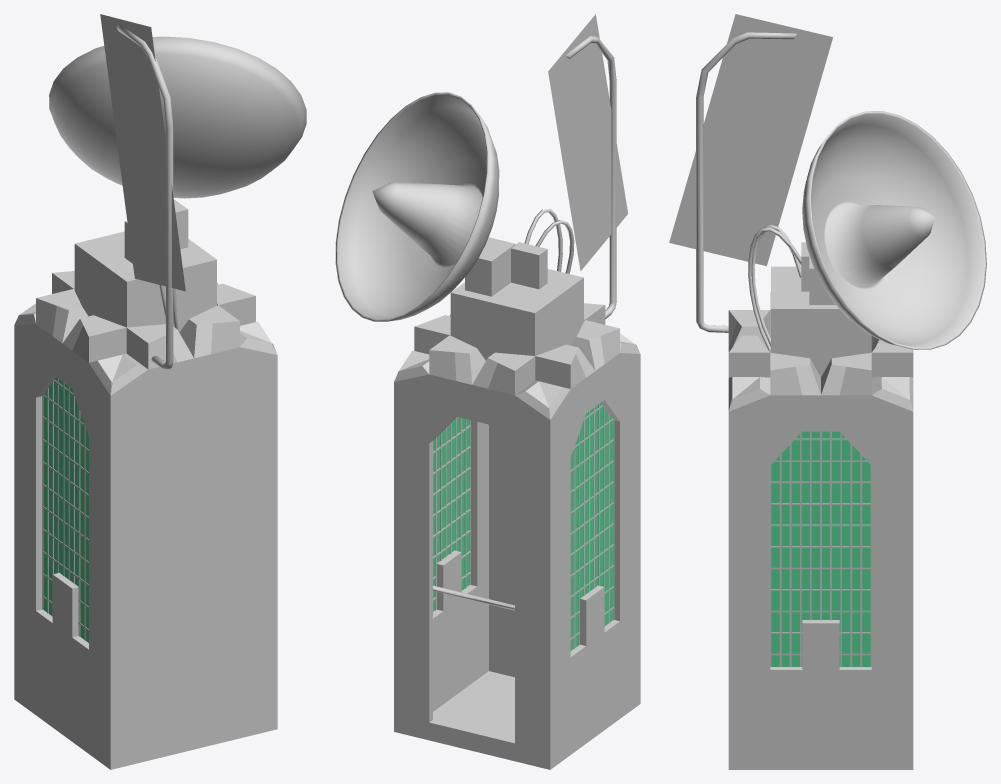
File: test_booth 1.fbx
3 views of the same model, side by side, from view 1: azimuth 30°, elevation 25°; view 2: azimuth 150°, elevation 25°; view 3: azimuth 270°, elevation 25° (orthographic). The views are drawn at different scales.
Parts seen in each view (by area): view 1: booth; view 2: booth; view 3: booth.
Part boxes in pixels (x1,y1,x2,y2): booth: [14, 14, 306, 769]; booth: [335, 14, 640, 769]; booth: [669, 14, 986, 769].
Bounding box in the file's own units: 245 × 672 × 277.
